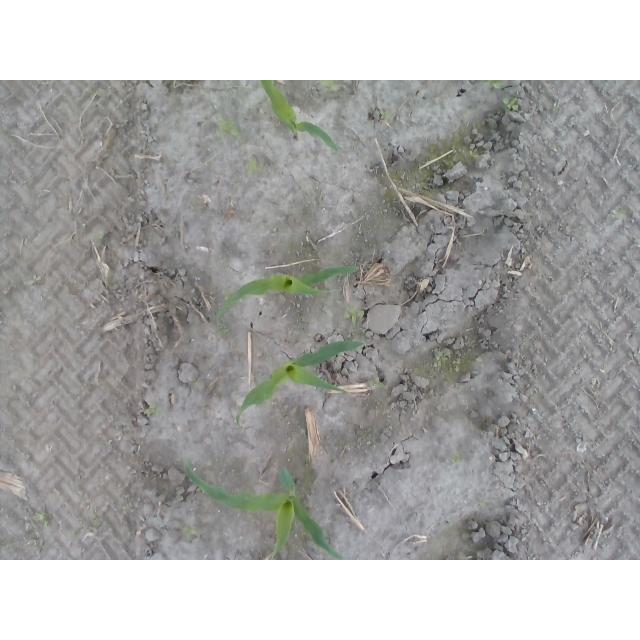Maize: (180, 458, 333, 559), (237, 337, 368, 430), (215, 264, 361, 329), (261, 81, 339, 155)
Weeds: (434, 353, 463, 376), (32, 503, 52, 527), (343, 307, 365, 326), (218, 120, 239, 137), (247, 159, 262, 176), (145, 407, 164, 420), (504, 96, 520, 110), (181, 527, 197, 539), (483, 81, 502, 90), (320, 82, 338, 91), (373, 378, 387, 389), (612, 210, 629, 219), (29, 276, 44, 285), (380, 109, 392, 119), (98, 230, 106, 239), (553, 102, 562, 109), (452, 457, 460, 464), (196, 378, 203, 386)
